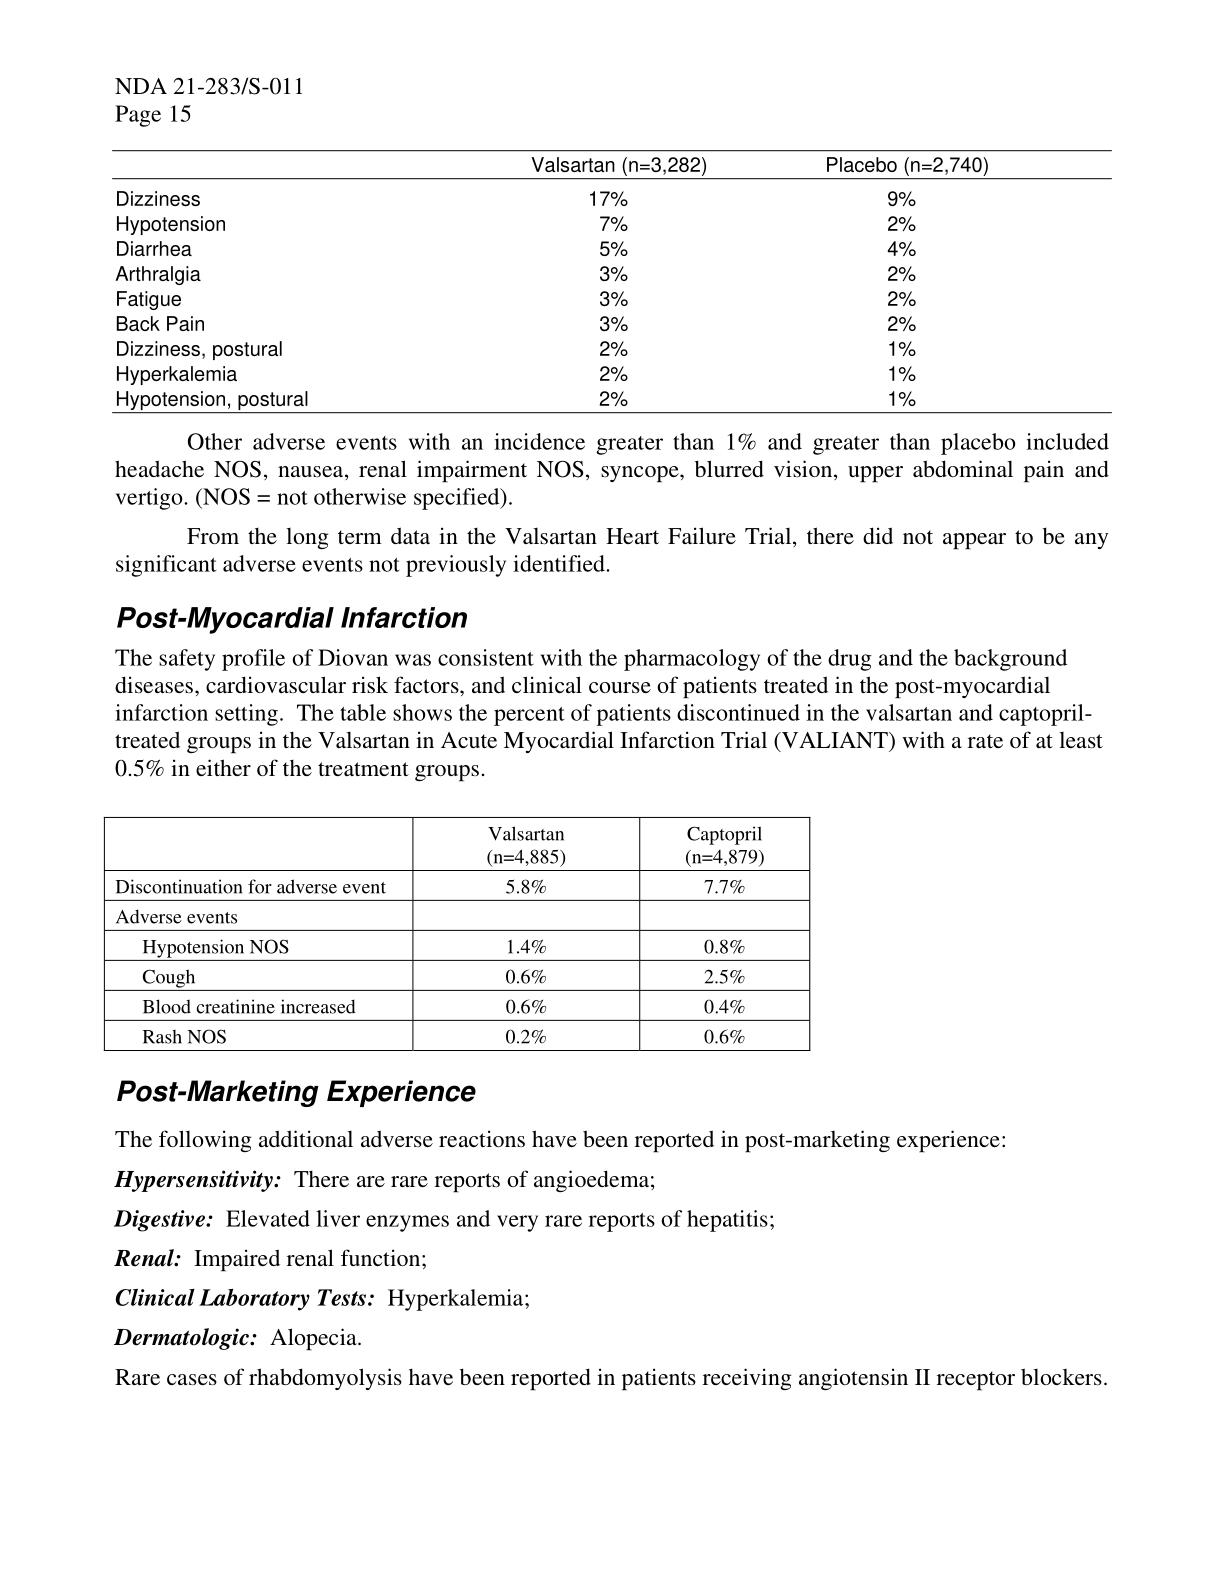full_lined: (102, 813, 815, 1054)
partial_lined: (111, 145, 1112, 417)
